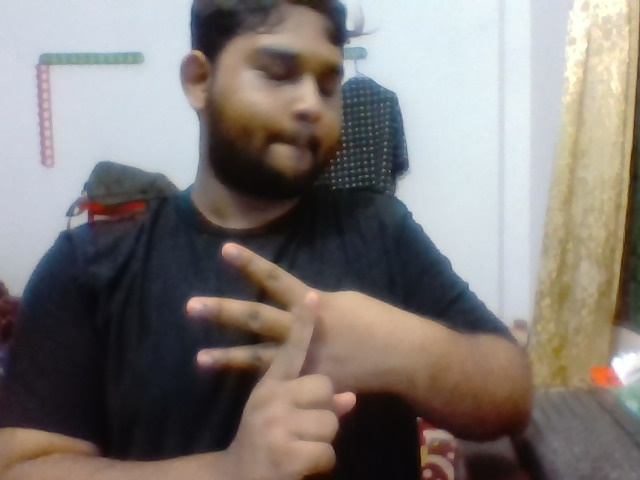E: (173, 224, 400, 471)
